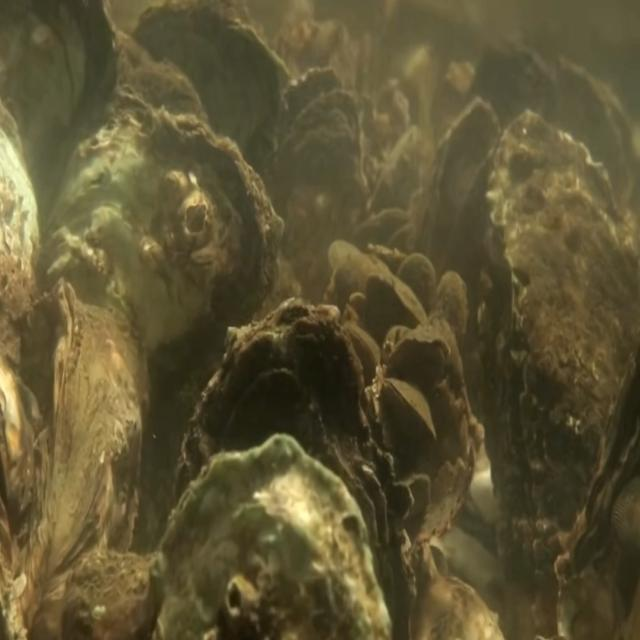Oyster-Closed: (51, 104, 285, 518), (174, 298, 414, 640), (477, 109, 637, 552), (152, 432, 390, 640), (382, 375, 436, 439), (386, 336, 450, 384)
Oyster-Indeterminate: (29, 276, 149, 640), (418, 96, 503, 327), (366, 272, 426, 326), (397, 252, 436, 323), (435, 270, 468, 345)
Oyster-Open: (266, 66, 362, 278)
